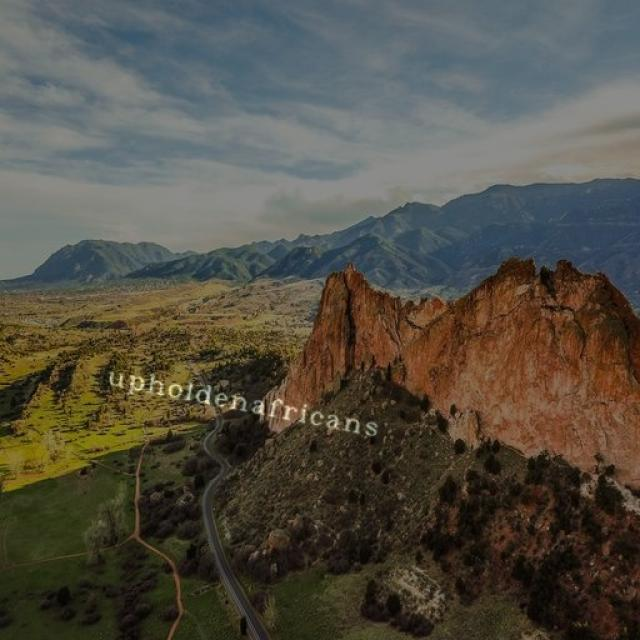watermark: (97, 364, 395, 440)
